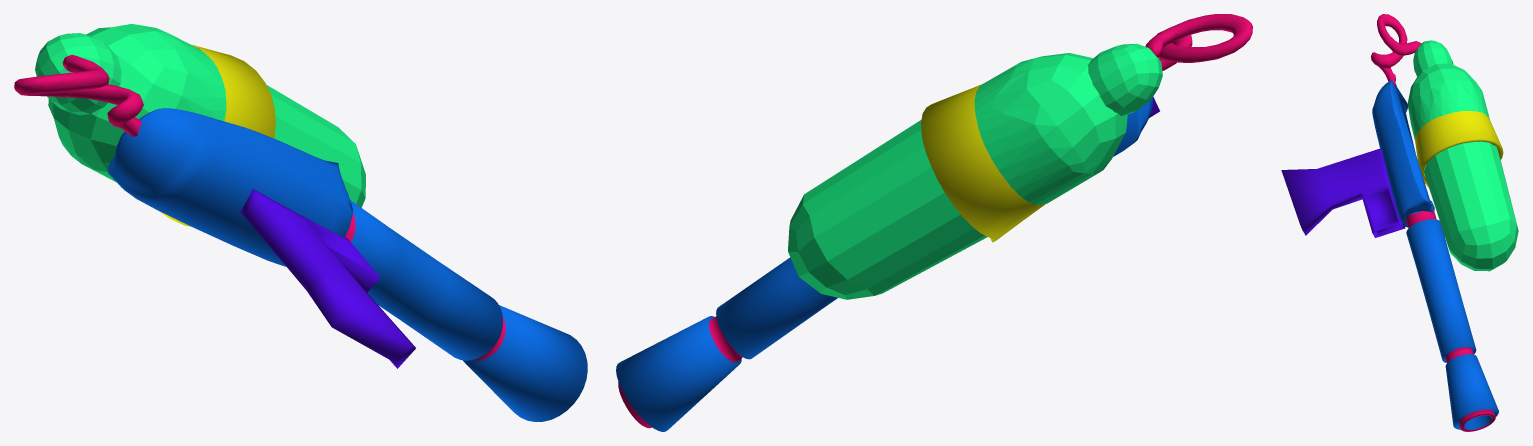
The model's file is armaUnity.fbx.
3 views of the same model, side by side, from view 1: azimuth 30°, elevation 25°; view 2: azimuth 150°, elevation 25°; view 3: azimuth 270°, elevation 25° (orthographic). The views are drawn at different scales.
Visible parts, largest first — view 1: pistola tuvo, Pistola cilindro, pistola mango, PistolaManguera, Pistolasoporte cilindro; view 2: Pistola cilindro, pistola tuvo, Pistolasoporte cilindro, PistolaManguera; view 3: Pistola cilindro, pistola tuvo, pistola mango, Pistolasoporte cilindro, PistolaManguera.
Part boxes in pixels (bbox=[...]): pistola tuvo: bbox=[108, 108, 587, 421]; Pistola cilindro: bbox=[35, 24, 365, 207]; pistola mango: bbox=[240, 189, 415, 368]; PistolaManguera: bbox=[14, 55, 143, 136]; Pistolasoporte cilindro: bbox=[159, 44, 275, 226]; Pistola cilindro: bbox=[788, 43, 1162, 299]; pistola tuvo: bbox=[616, 97, 1153, 431]; Pistolasoporte cilindro: bbox=[921, 84, 1045, 242]; PistolaManguera: bbox=[1145, 14, 1252, 70]; Pistola cilindro: bbox=[1407, 40, 1518, 271]; pistola tuvo: bbox=[1372, 80, 1498, 431]; pistola mango: bbox=[1281, 148, 1405, 237]; Pistolasoporte cilindro: bbox=[1415, 111, 1503, 187]; PistolaManguera: bbox=[1371, 14, 1421, 87].
Size of the model in its own units: 22.06 by 17.92 by 14.07.
